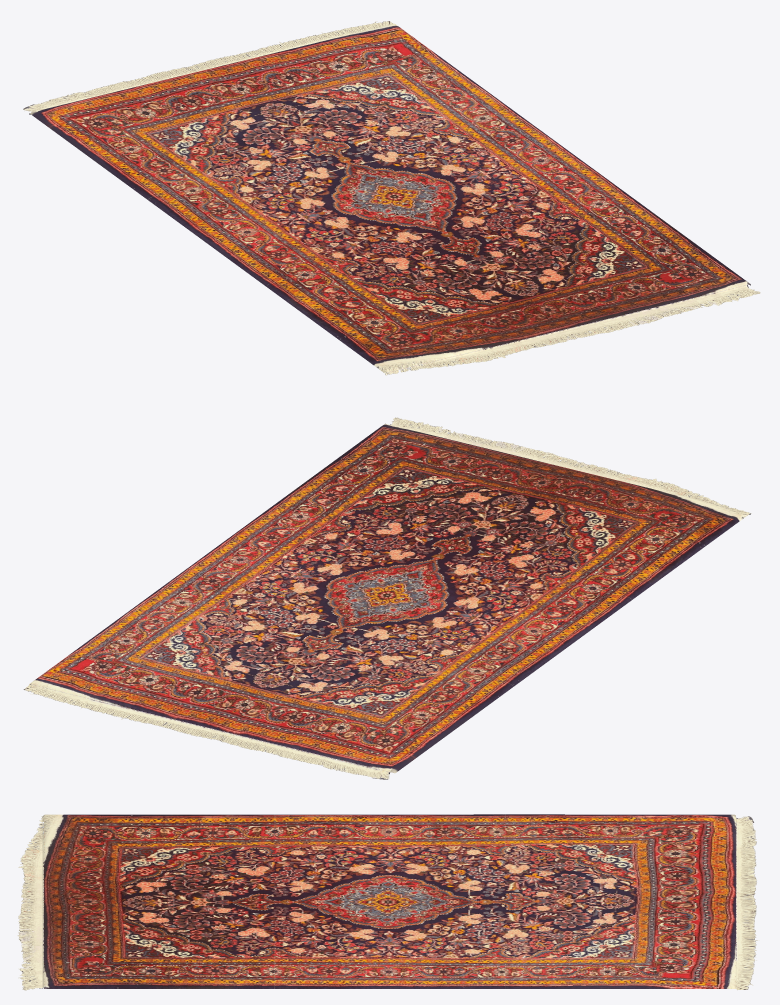
File: afshar-2015-070-android.glb
3 views of the same model, one above another, from view 1: azimuth 30°, elevation 25°; view 2: azimuth 150°, elevation 25°; view 3: azimuth 270°, elevation 25° (orthographic). The views are drawn at different scales.
Visible parts, largest first — view 1: rug; view 2: rug; view 3: rug.
Boxes of the visible parts, x1,y1,x2,y2 form: rug: [23, 21, 760, 375]; rug: [23, 417, 751, 779]; rug: [17, 814, 759, 990].
Size of the model in its own units: 1.1 by 0.0122 by 2.01.
Materials: 5 (4 with a texture image).
